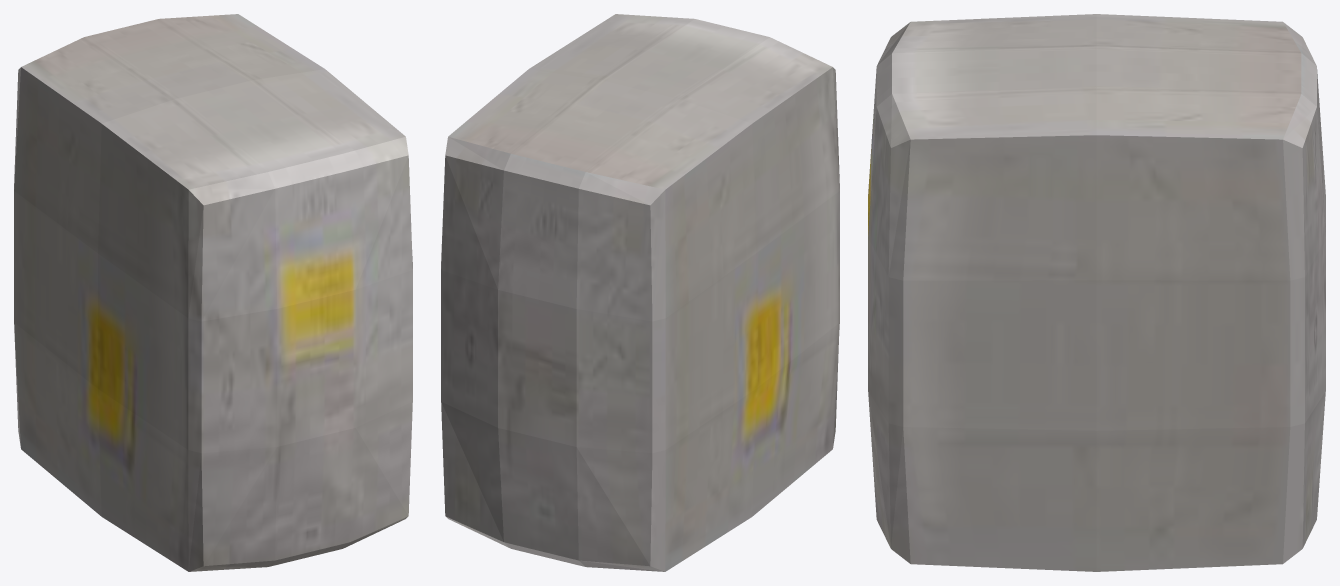
The model's file is M_01_Bag.dae.
3 views of the same model, side by side, from view 1: azimuth 30°, elevation 25°; view 2: azimuth 150°, elevation 25°; view 3: azimuth 270°, elevation 25° (orthographic). The views are drawn at different scales.
Parts seen in each view (by area): view 1: M_01_Bag; view 2: M_01_Bag; view 3: M_01_Bag.
Part boxes in pixels (box(x1,y1,x2,y2)): M_01_Bag: box(14, 14, 412, 571); M_01_Bag: box(441, 14, 839, 571); M_01_Bag: box(868, 14, 1325, 571).
Size of the model in its own units: 0.5339 by 0.8246 by 0.8973.
1 material, 1 textured.
